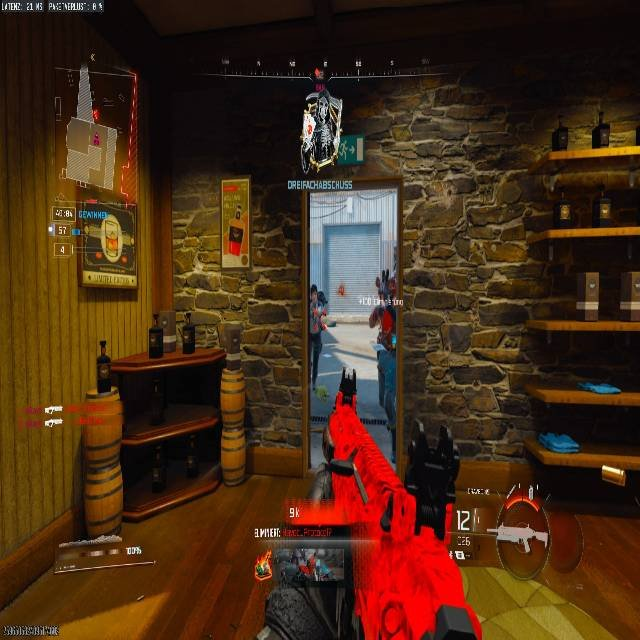head: (309, 283, 317, 294)
player: (309, 283, 329, 333)
